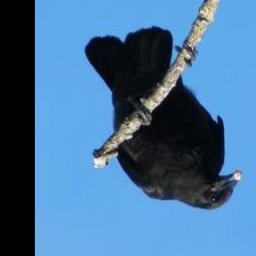Crow: (83, 25, 244, 211)
